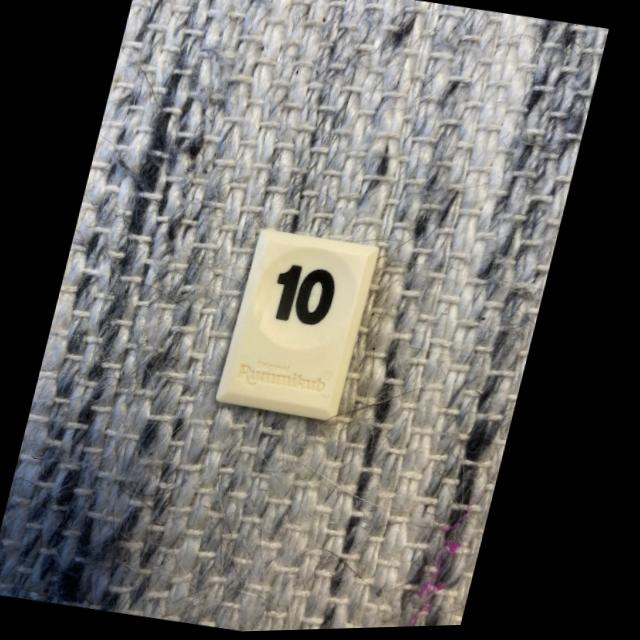black_10: (222, 231, 382, 422)
